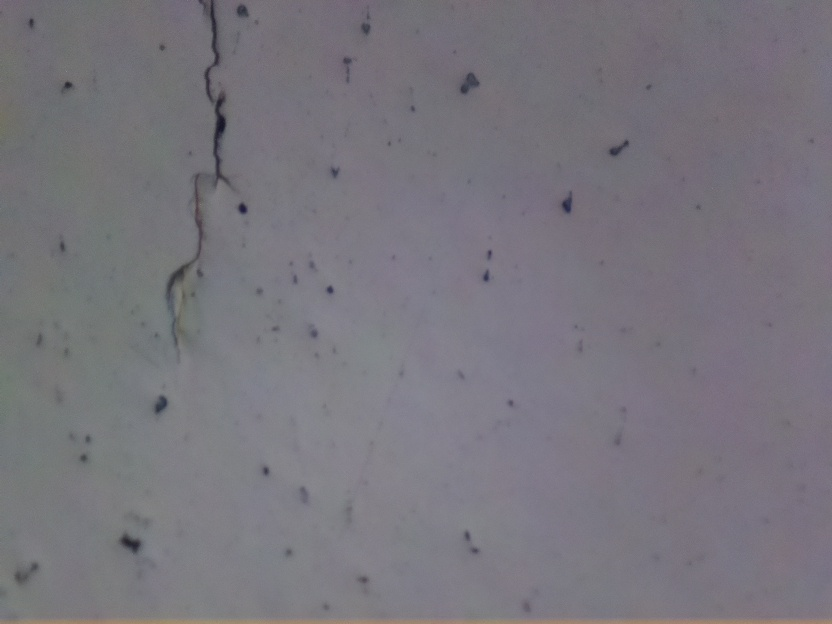crack: (196, 0, 238, 195), (163, 173, 204, 343)
